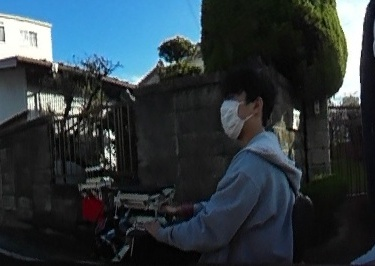person: (163, 64, 294, 266)
